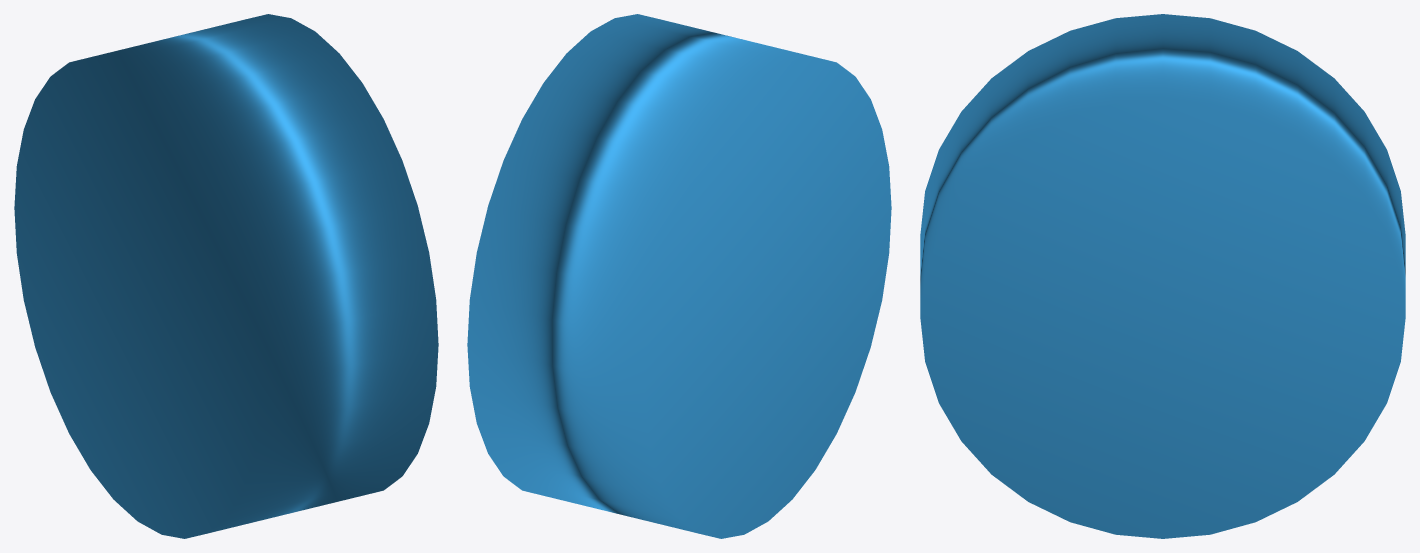
Rendered from GT3_CenterLock_Nut_FL.glb.
3 views of the same model, side by side, from view 1: azimuth 30°, elevation 25°; view 2: azimuth 150°, elevation 25°; view 3: azimuth 270°, elevation 25° (orthographic).
Parts seen in each view (by area): view 1: GT3_Centerlock_Nut_FL; view 2: GT3_Centerlock_Nut_FL; view 3: GT3_Centerlock_Nut_FL.
Part boxes in pixels (x1,y1,x2,y2): GT3_Centerlock_Nut_FL: [14, 14, 438, 538]; GT3_Centerlock_Nut_FL: [467, 14, 891, 538]; GT3_Centerlock_Nut_FL: [920, 14, 1405, 538].
Bounding box in the file's own units: 0.035 × 0.084 × 0.084.
